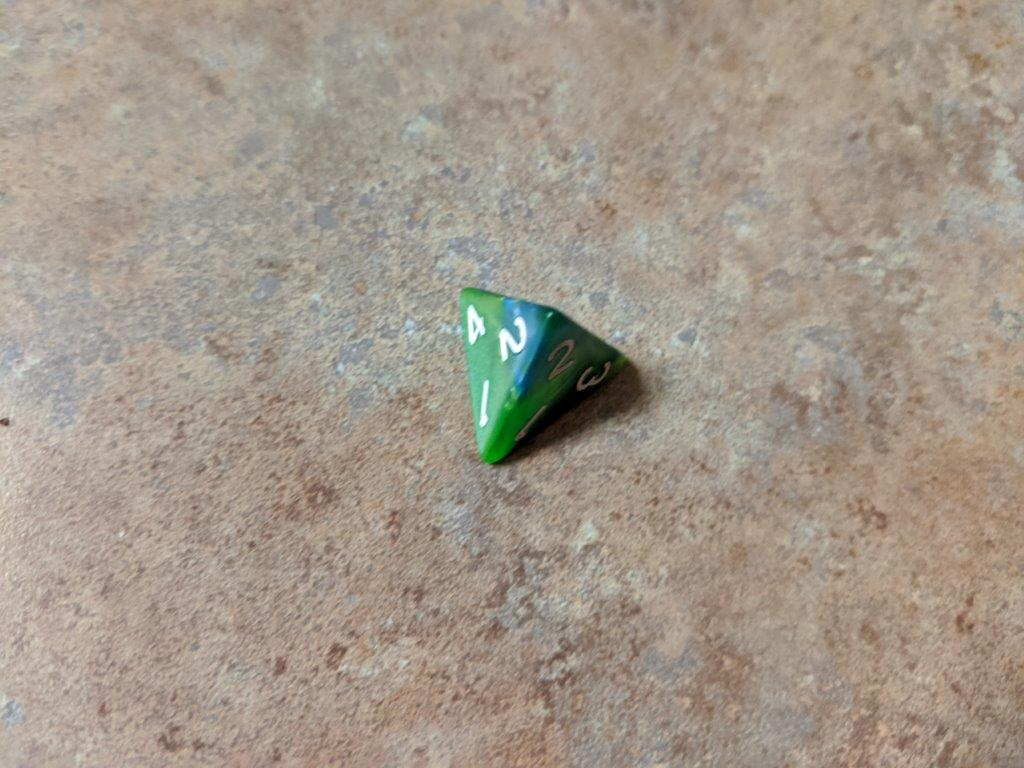d4-2: (456, 282, 631, 463)
